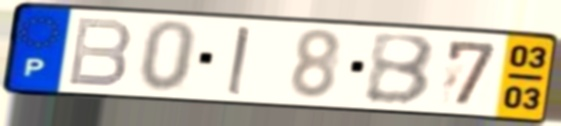0: (132, 17, 203, 96)
7: (445, 39, 497, 108)
8: (286, 26, 344, 103)
B: (362, 33, 439, 108), (64, 15, 135, 90)
I: (224, 24, 252, 98)
